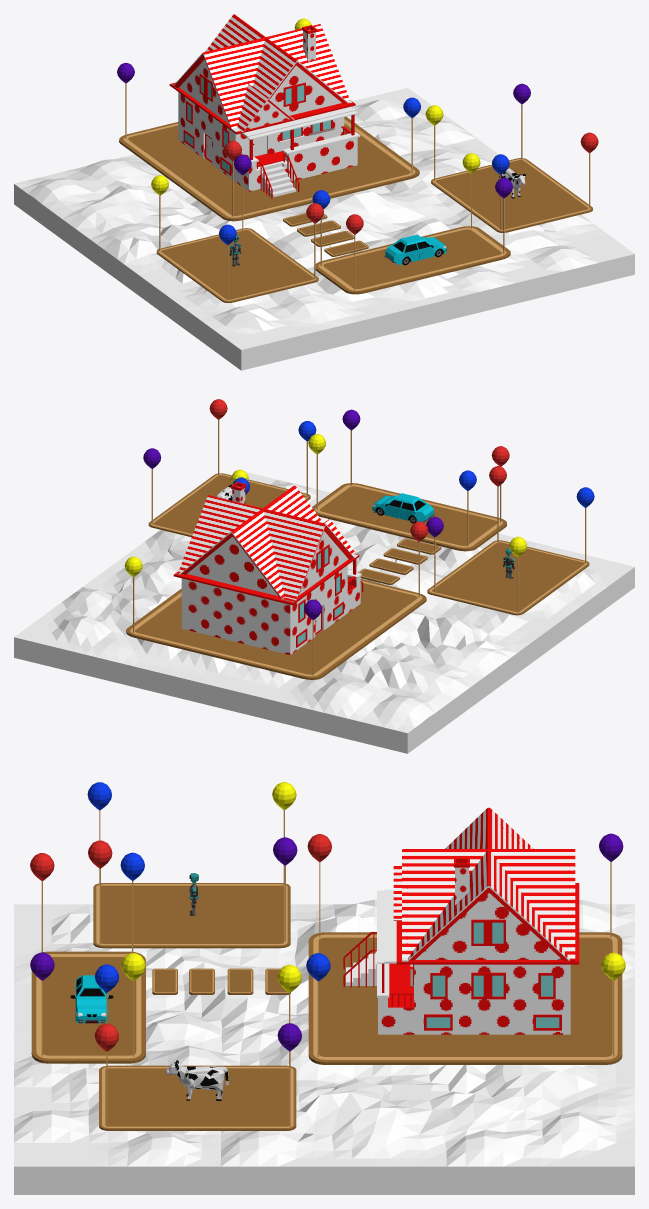
The picture shows the model from 3 angles, top to bottom: view 1: azimuth 30°, elevation 25°; view 2: azimuth 150°, elevation 25°; view 3: azimuth 270°, elevation 25°; orthographic projection. The views are drawn at different scales.
Visible parts, largest first — view 1: Cube.013, Cube.196, VEHICLES_CAR; view 2: Cube.013, Cube.196, VEHICLES_CAR; view 3: Cube.013, Cube.196, VEHICLES_CAR, ANIMAL_VACA.
Part boxes in pixels (x1,y1,x2,y2): Cube.013: [14, 18, 634, 370]; Cube.196: [169, 14, 360, 198]; VEHICLES_CAR: [384, 234, 446, 265]; Cube.013: [14, 399, 634, 753]; Cube.196: [173, 482, 363, 654]; VEHICLES_CAR: [372, 493, 434, 523]; Cube.013: [14, 782, 634, 1194]; Cube.196: [343, 807, 579, 1034]; VEHICLES_CAR: [70, 975, 113, 1023]; ANIMAL_VACA: [165, 1060, 228, 1100].
Size of the model in its own units: 4000 by 1688 by 4000.
Materials: 37 (2 with a texture image).
